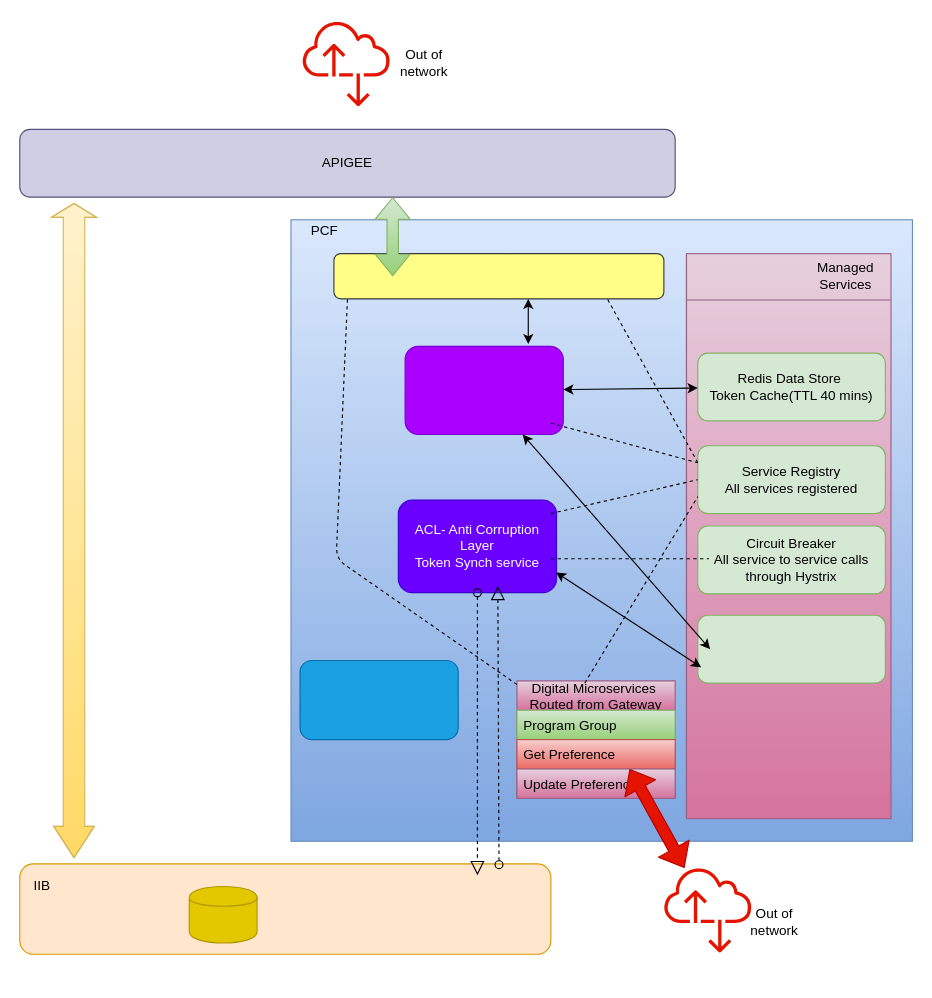
The diagram is 932 pixels wide and 998 high, and some of its shapes have lost their labels. Here are the shapes that lost their labels. From the top down, the centre of each, then its label:
At pixel 498 276: "Gateway -Spring cloud gateway".
At pixel 483 389: "Token Service Generate Token Service".
At pixel 791 648: "RabbitMQ Token Queue Dead Letter Queue".
At pixel 378 699: "Cookbook Recipe Static site".
At pixel 222 914: "Oracle".
